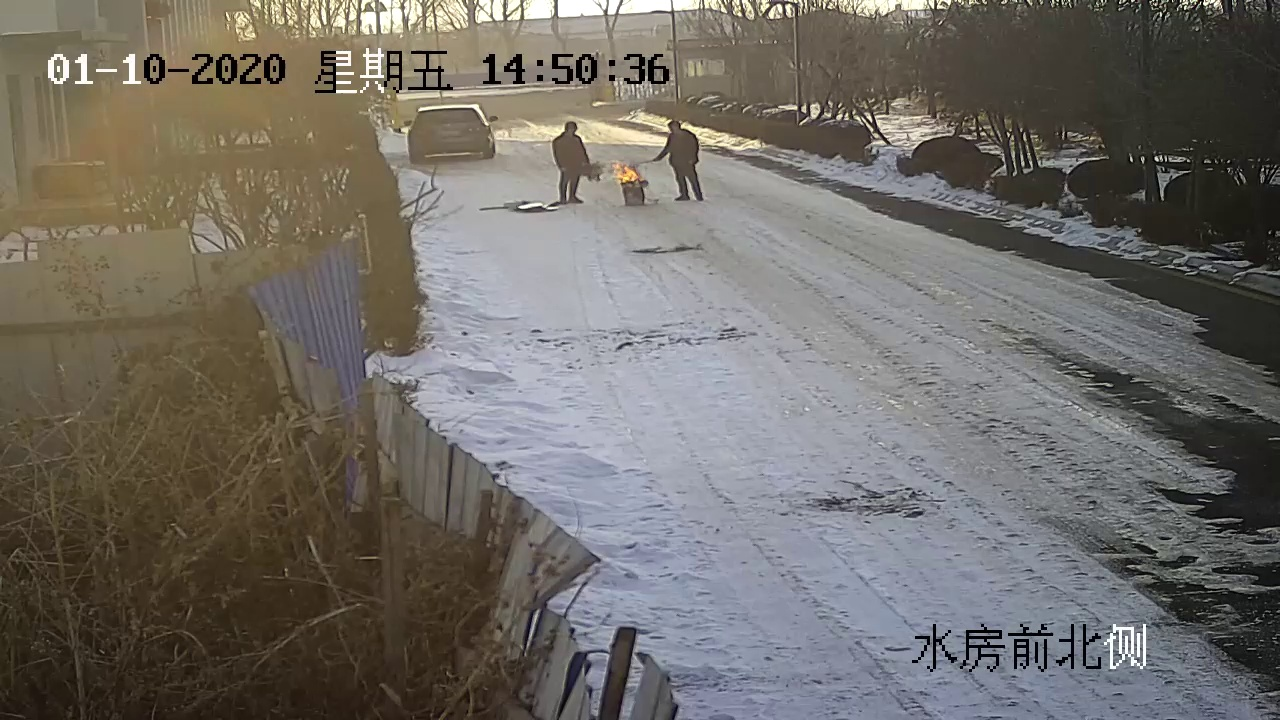fire: (611, 158, 636, 180)
